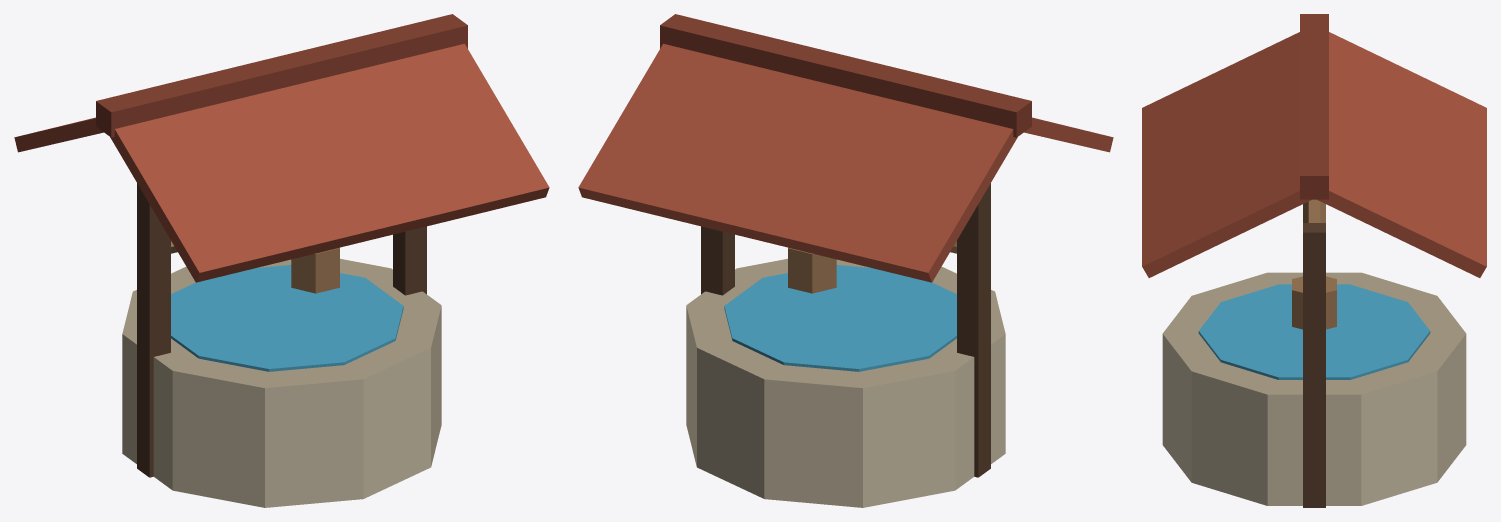
Rendered from castle_well.glb.
3 renders of one model, left to right at view 1: azimuth 30°, elevation 25°; view 2: azimuth 150°, elevation 25°; view 3: azimuth 270°, elevation 25°, orthographic. The views are drawn at different scales.
Parts seen in each view (by area): view 1: LOD0; view 2: LOD0; view 3: LOD0.
Boxes of the visible parts, bbox=[...] form: LOD0: bbox=[14, 14, 549, 507]; LOD0: bbox=[578, 14, 1113, 507]; LOD0: bbox=[1142, 14, 1486, 507].
Bounding box in the file's own units: 2.65 × 2.67 × 2.38.
Materials: 1 (1 with a texture image).
